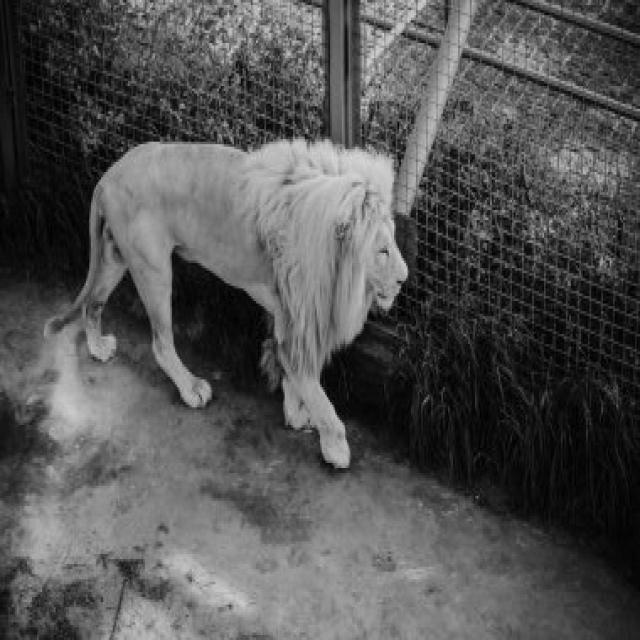Animal: (58, 142, 414, 464)
